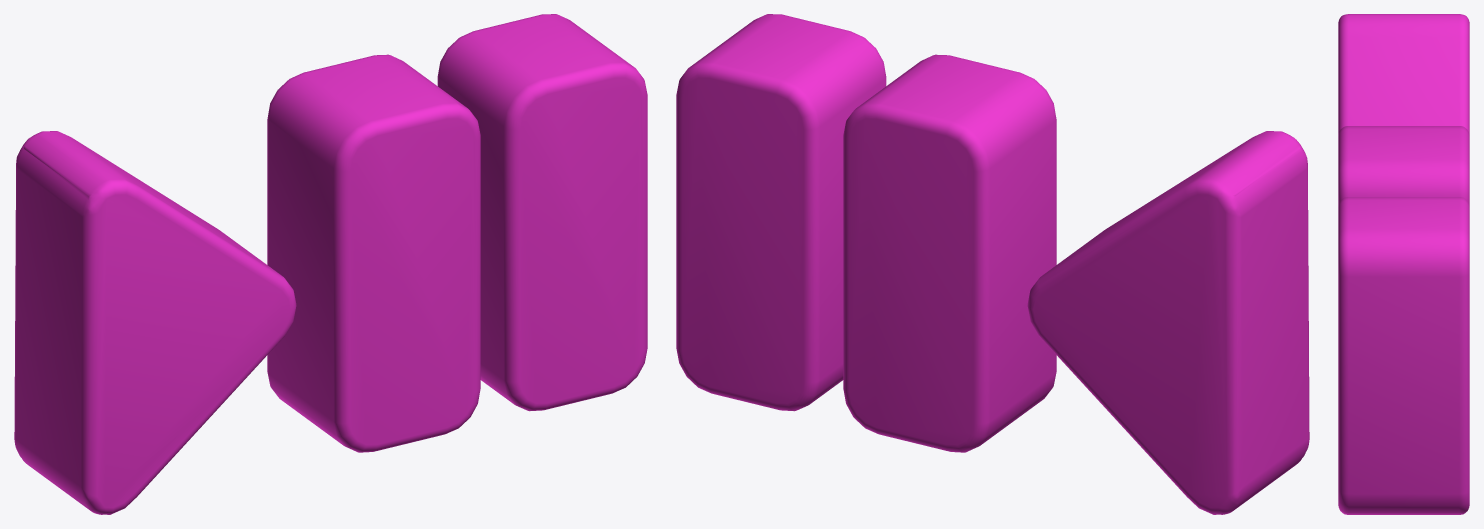
Rendered from play-pause-button_draco.glb.
The picture shows the model from 3 angles, left to right: view 1: azimuth 30°, elevation 25°; view 2: azimuth 150°, elevation 25°; view 3: azimuth 270°, elevation 25°; orthographic projection. The views are drawn at different scales.
Parts seen in each view (by area): view 1: Plane; view 2: Plane; view 3: Plane.
Part boxes in pixels (x1,y1,x2,y2): Plane: [14, 14, 647, 514]; Plane: [676, 14, 1309, 514]; Plane: [1338, 14, 1469, 514].
Bounding box in the file's own units: 4.56 × 2.58 × 1.07.
